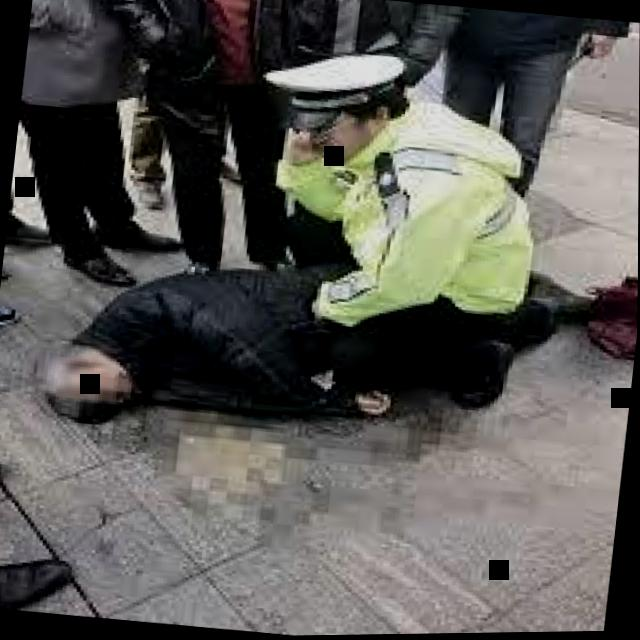Fall-Detected: (31, 200, 639, 481)
